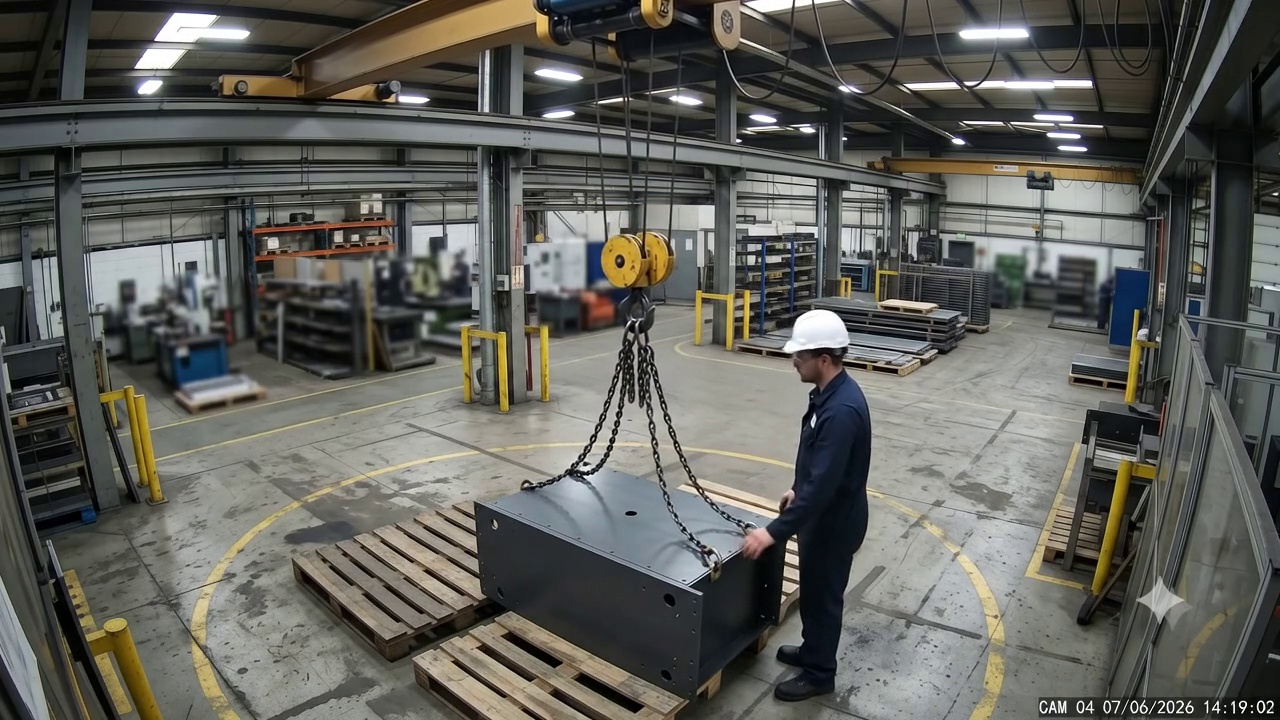person: (739, 310, 873, 704)
